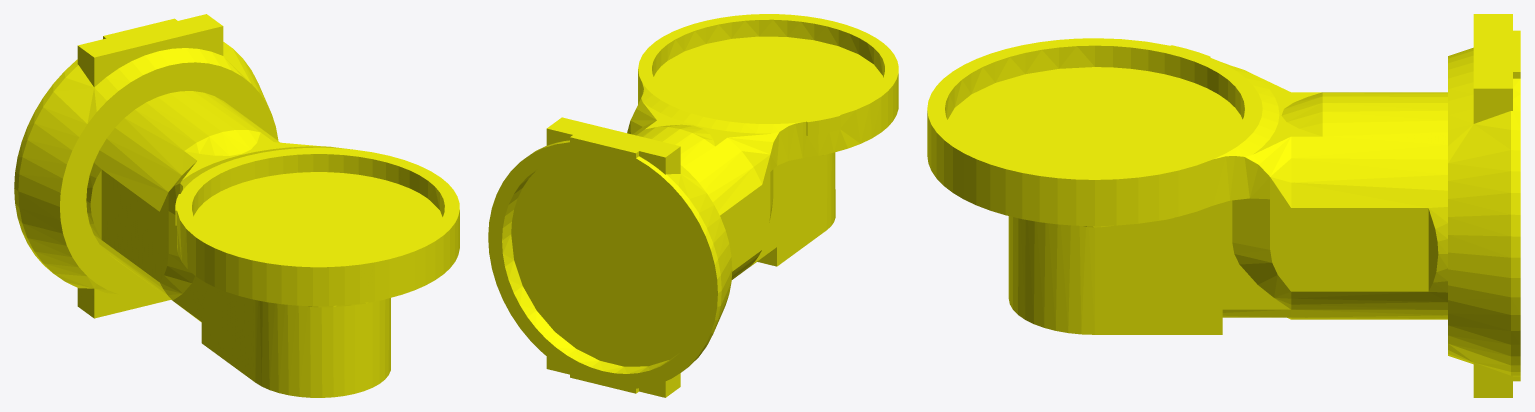
The picture shows the model from 3 angles, left to right: view 1: azimuth 30°, elevation 25°; view 2: azimuth 150°, elevation 25°; view 3: azimuth 270°, elevation 25°; orthographic projection. The views are drawn at different scales.
Parts seen in each view (by area): view 1: node; view 2: node; view 3: node.
Boxes of the visible parts, left/top/right/bottom form: node: left=14, top=14, right=459, bottom=397; node: left=488, top=14, right=898, bottom=397; node: left=927, top=14, right=1520, bottom=397.
Size of the model in its own units: 174 by 174 by 303.
